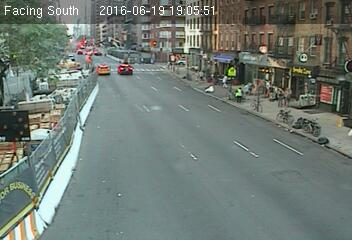neg: (331, 112, 351, 138), (337, 94, 348, 108)
pos: (230, 84, 247, 106)
